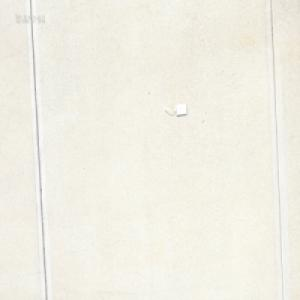LuggageTag: (164, 102, 187, 118)
